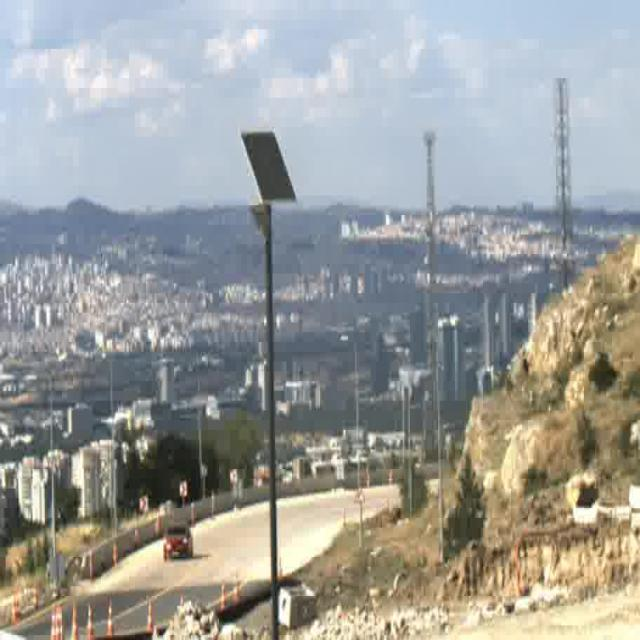Car: (163, 526, 193, 559)
